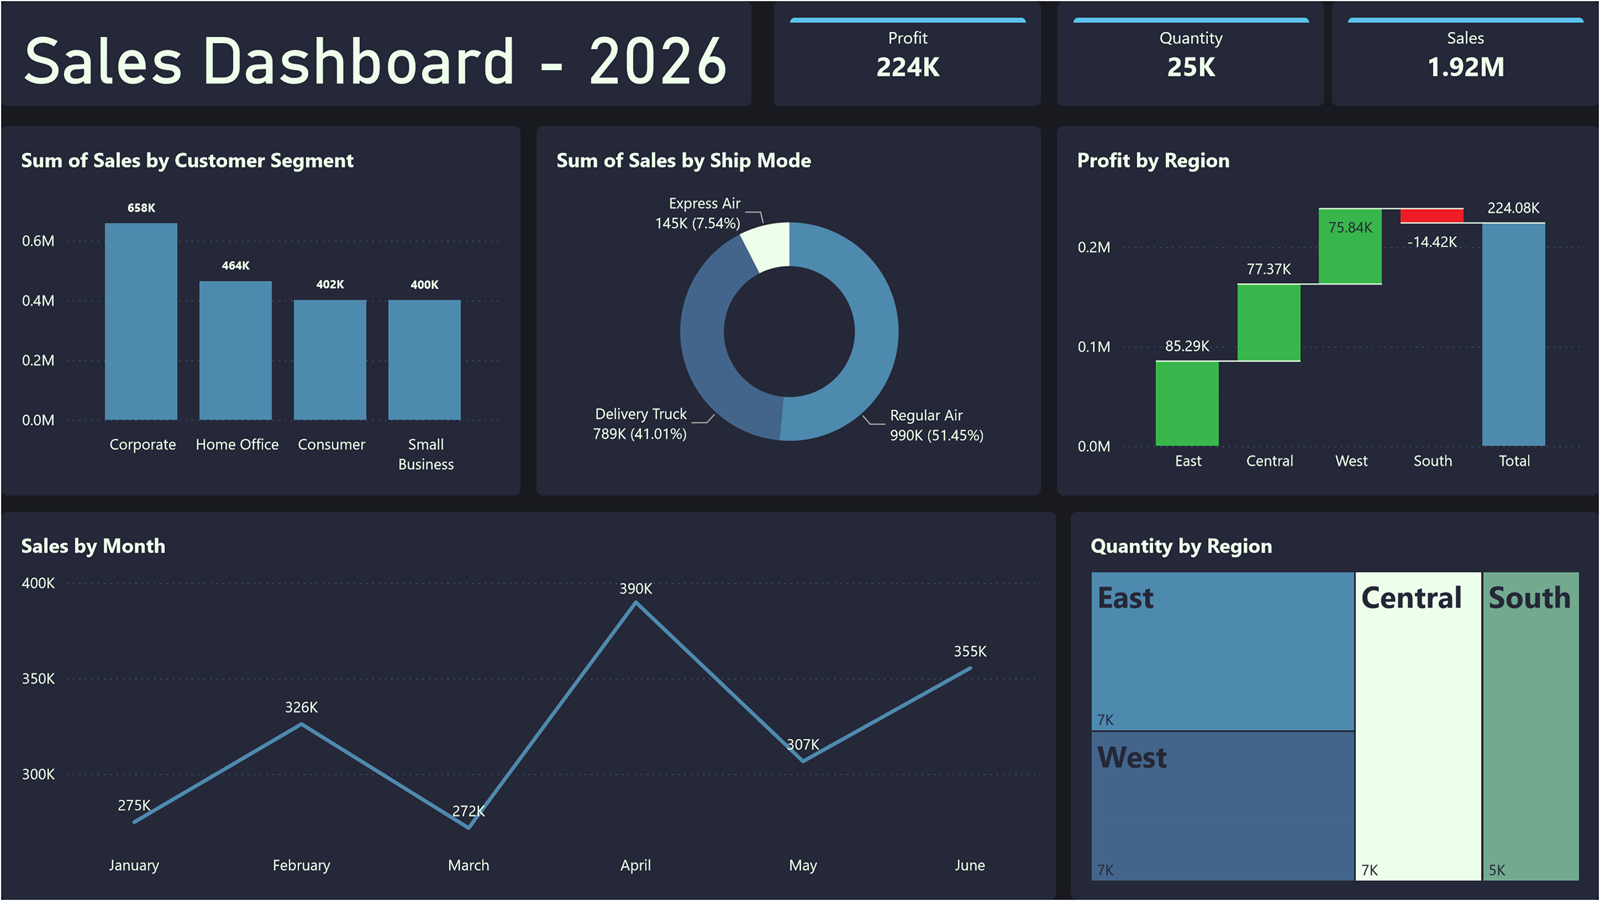

The dashboard page shown, as its layout file describes it:
{"tool":"powerbi","page":{"name":"Page 1","canvas":[1280,720],"ordinal":0},"visuals":[{"type":"clusteredColumnChart","fields":{"Category":["Orders.Customer Segment"],"Y":["Sum(Orders.Sales)"]},"box":[0,100,415.7,295.7],"z":0},{"type":"donutChart","fields":{"Y":["Sum(Orders.Sales)"],"Category":["Orders.Ship Mode"]},"box":[428.6,100,404.3,295.7],"z":1000},{"type":"waterfallChart","title":"Profit by Region","fields":{"Category":["Orders.Region"],"Y":["Sum(Orders.Profit)"]},"box":[845.7,100,434.3,295.7],"z":2000},{"type":"lineChart","title":"Sales by Month","fields":{"Category":["Orders.Order Date.Variation.Date Hierarchy.Month"],"Y":["Sum(Orders.Sales)"]},"box":[0,409.1,845.4,310.4],"z":3000},{"type":"treemap","title":" Quantity by Region","fields":{"Values":["Sum(Orders.Quantity ordered new)"],"Group":["Orders.Region"]},"box":[856.9,409.1,423.4,310.4],"z":4000},{"type":"shape","box":[0,0,601.4,84.3],"z":5001},{"type":"textbox","box":[17.1,17.1,584.3,64.3],"z":5002},{"type":"cardVisual","fields":{"Data":["Sum(Orders.Profit)"]},"box":[618.6,0,214.3,84.3],"z":5003},{"type":"cardVisual","fields":{"Data":["Sum(Orders.Sales)"]},"box":[1065.7,0,214.3,84.3],"z":5004},{"type":"cardVisual","fields":{"Data":["Sum(Orders.Quantity ordered new)"]},"box":[845.7,0,214.3,84.3],"z":5005}]}

Visuals, with their boxes in screenshot pixels (x1, y1, x2, y2), scaled from the page's 1280x720 canvas onto the 1600x901 screenshot:
clusteredColumnChart - Orders.Customer Segment x Sum(Orders.Sales): 0, 125, 520, 495
donutChart - Sum(Orders.Sales) x Orders.Ship Mode: 536, 125, 1041, 495
"Profit by Region" waterfallChart: 1057, 125, 1599, 495
"Sales by Month" lineChart: 0, 512, 1057, 900
" Quantity by Region" treemap: 1071, 512, 1599, 900
shape: 0, 0, 752, 105
textbox: 21, 21, 752, 102
cardVisual - Sum(Orders.Profit): 773, 0, 1041, 105
cardVisual - Sum(Orders.Sales): 1332, 0, 1599, 105
cardVisual - Sum(Orders.Quantity ordered new): 1057, 0, 1325, 105
